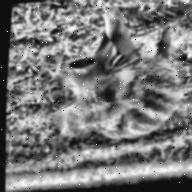boar: (32, 15, 192, 163)
